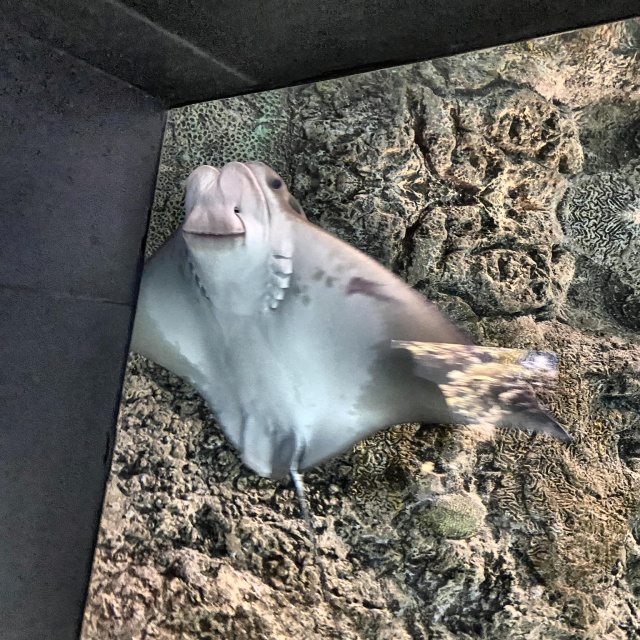stingray: (129, 158, 575, 478)
